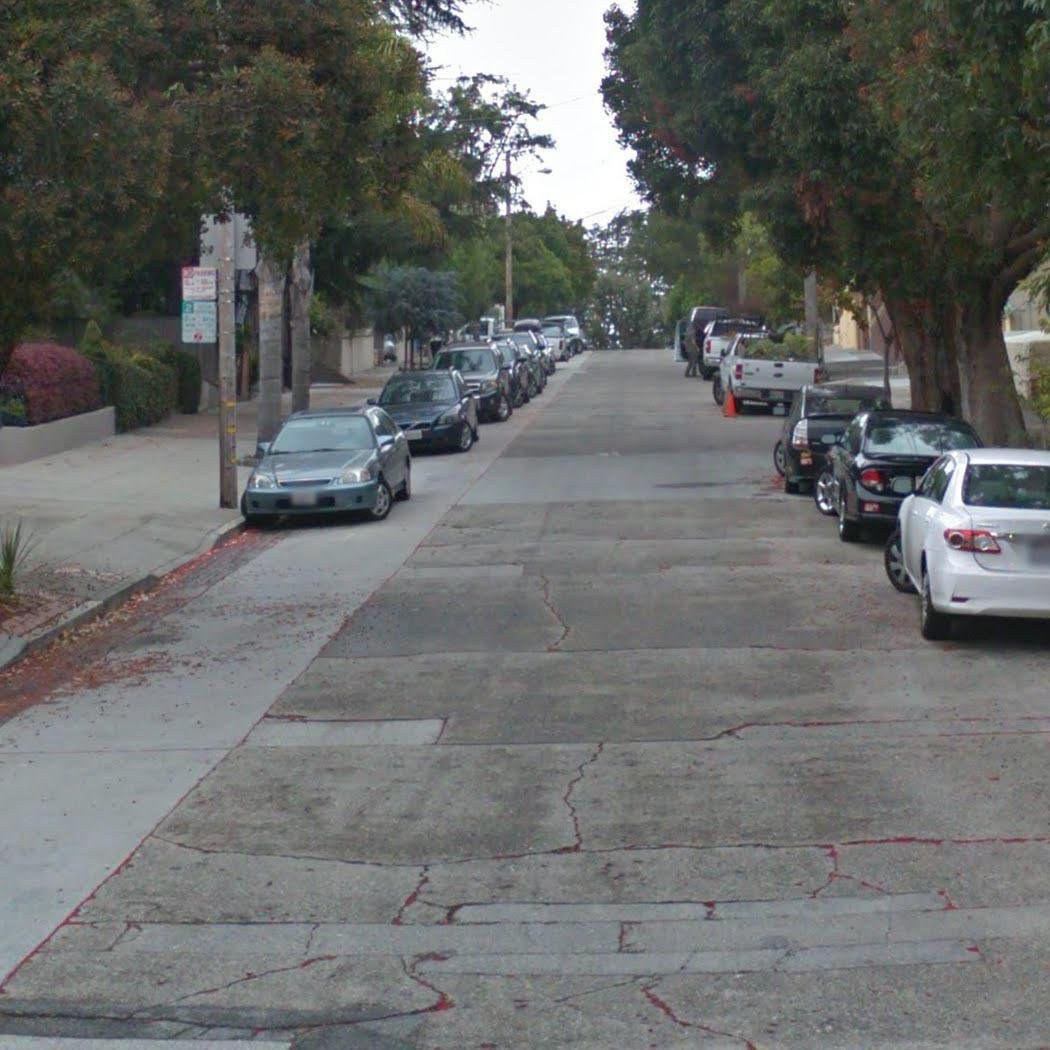2 Hour Parking: (180, 300, 218, 346)
No Parking: (180, 264, 219, 302)
